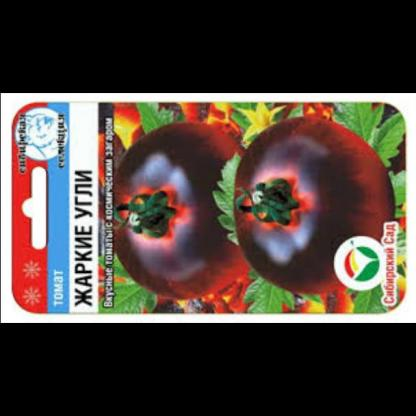tomato: (229, 119, 388, 305), (94, 121, 249, 305)
